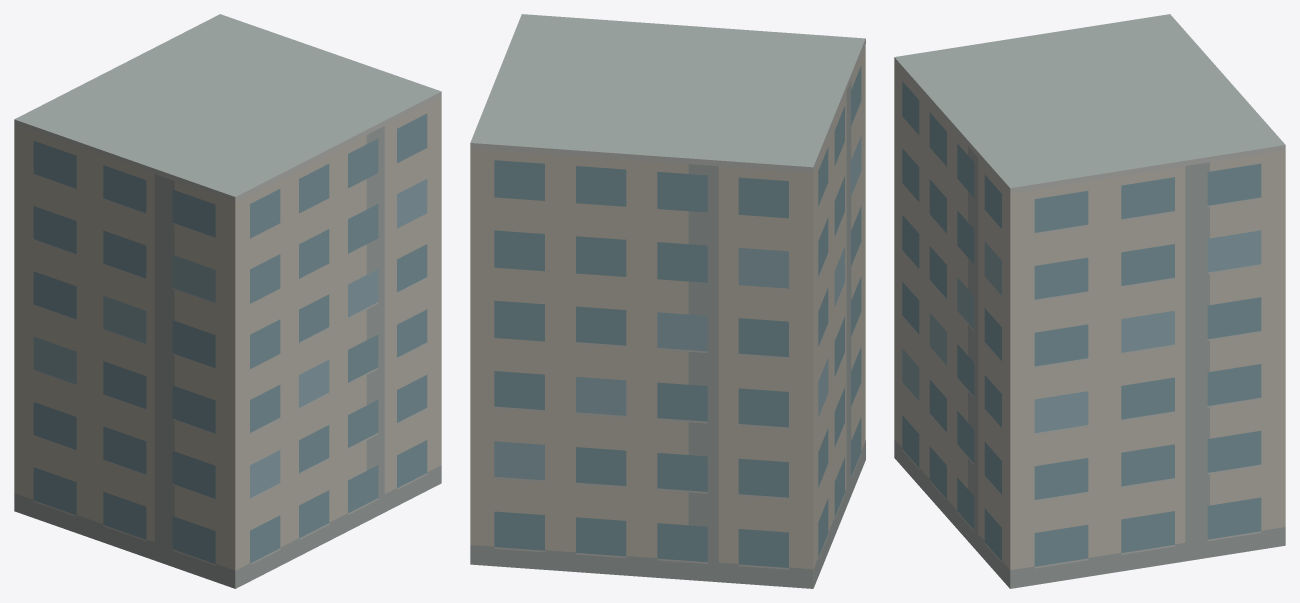
Rendered from survey-upis-32850608.glb.
The picture shows the model from 3 angles, left to right: view 1: azimuth 30°, elevation 25°; view 2: azimuth 150°, elevation 25°; view 3: azimuth 270°, elevation 25°; orthographic projection. The views are drawn at different scales.
Parts seen in each view (by area): view 1: survey-upis-32850608.tmp; view 2: survey-upis-32850608.tmp; view 3: survey-upis-32850608.tmp.
Boxes of the visible parts, x1,y1,x2,y2 form: survey-upis-32850608.tmp: (14,14,441,588); survey-upis-32850608.tmp: (470,14,865,588); survey-upis-32850608.tmp: (894,14,1285,588).
Bounding box in the file's own units: 17.08 × 18.3 × 16.21.
